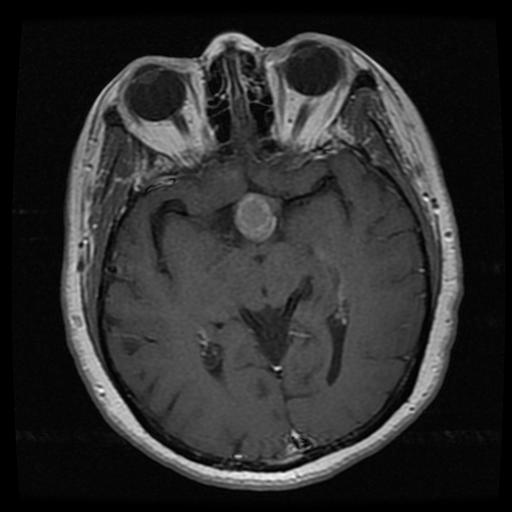Pituirity_tumour: (233, 191, 277, 240)
